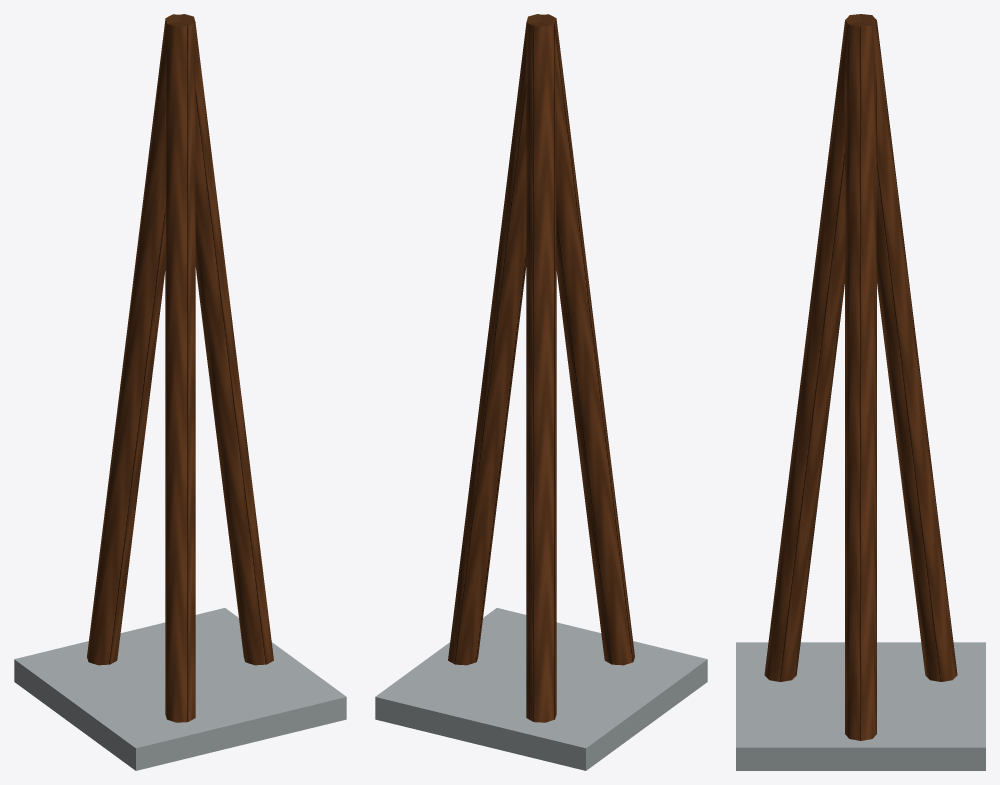
Rendered from prehistoric-survivor-settlement-tripod-roof-support-220fef89__23192.glb.
The picture shows the model from 3 angles, left to right: view 1: azimuth 30°, elevation 25°; view 2: azimuth 150°, elevation 25°; view 3: azimuth 270°, elevation 25°; orthographic projection. The views are drawn at different scales.
Visible parts, largest first — view 1: tripod-roof-support; view 2: tripod-roof-support; view 3: tripod-roof-support.
Boxes of the visible parts, bbox=[...] form: tripod-roof-support: bbox=[14, 14, 346, 770]; tripod-roof-support: bbox=[375, 14, 707, 770]; tripod-roof-support: bbox=[736, 14, 985, 770].
Bounding box in the file's own units: 0.78 × 2.41 × 0.78.
2 materials, 1 textured.
